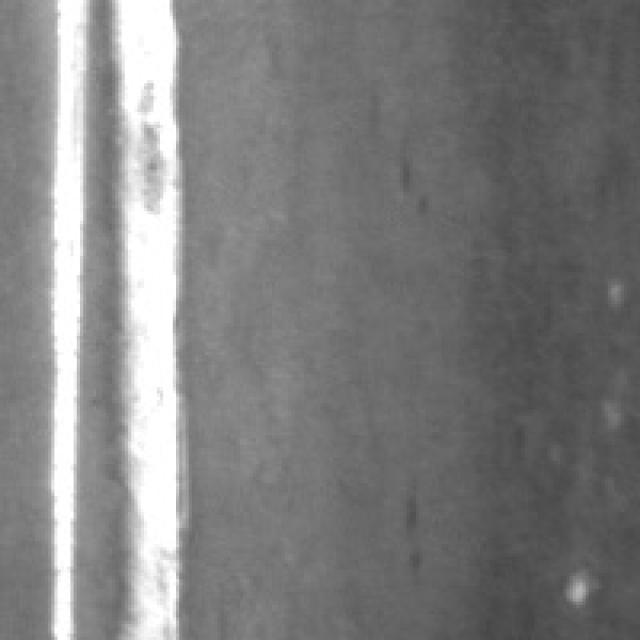inclusion: (390, 483, 429, 573)
scratches: (102, 0, 189, 634), (42, 0, 86, 634)
